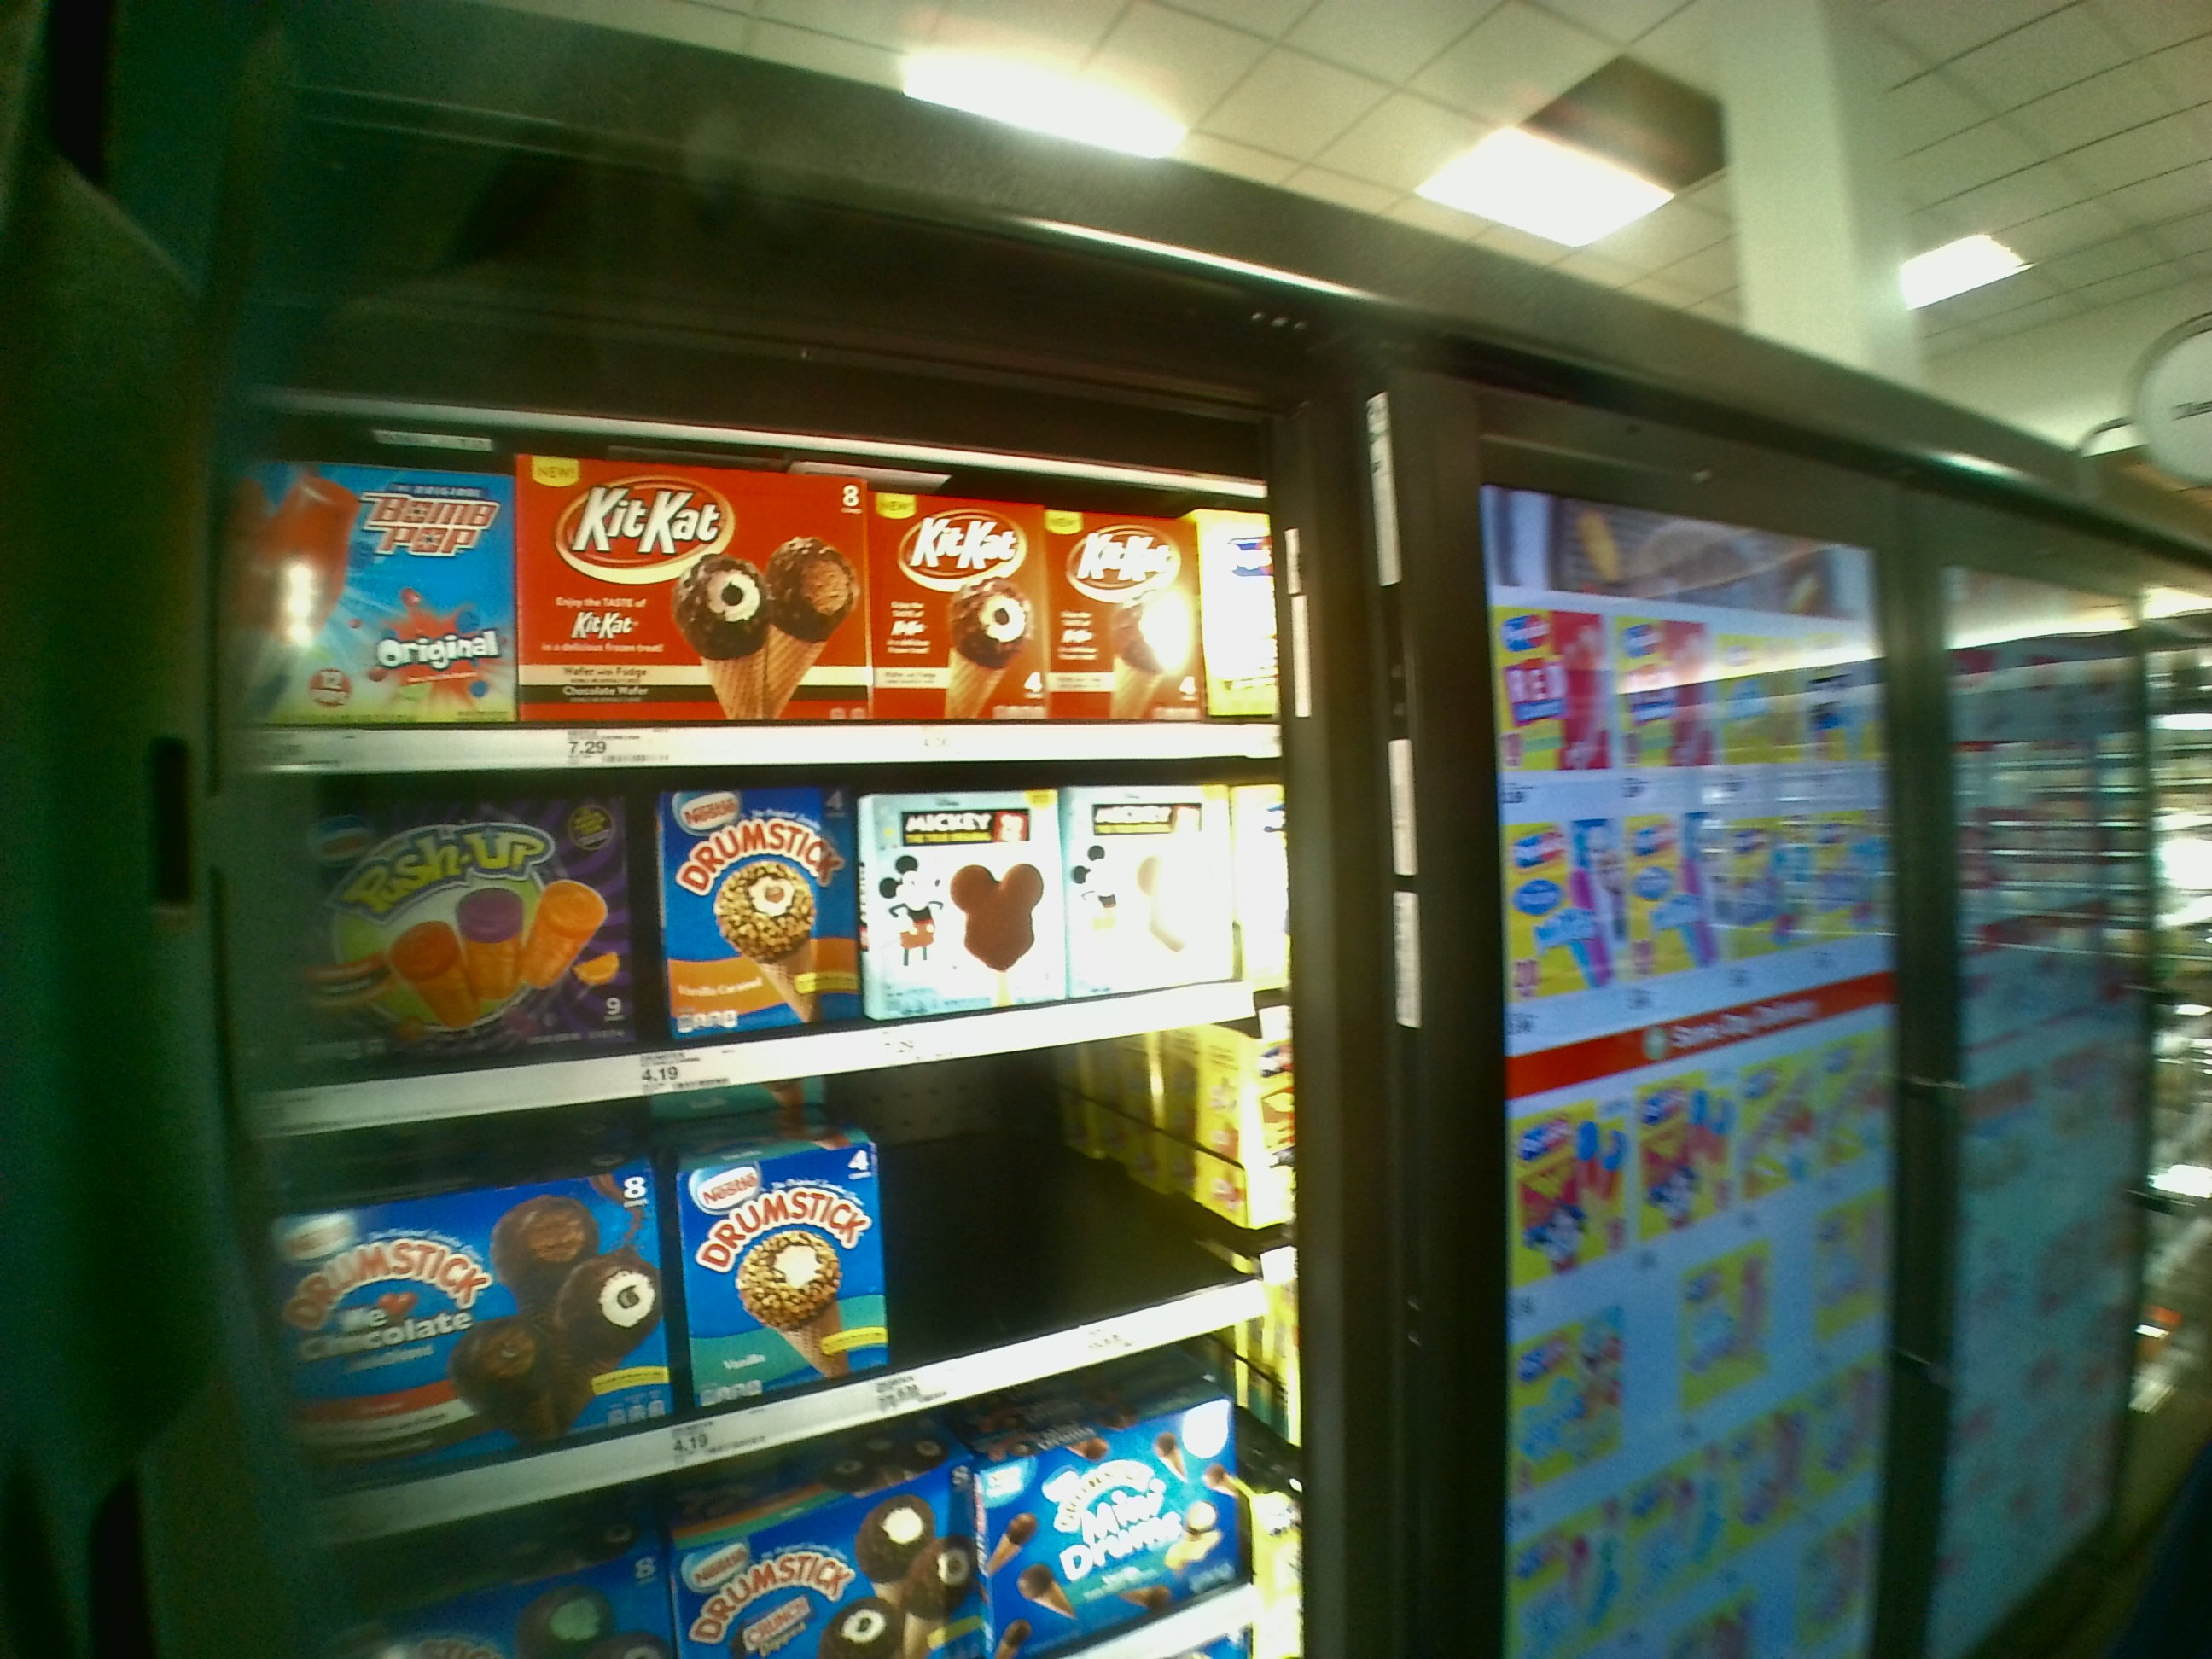shelf: (266, 1054, 1285, 1455), (232, 415, 1263, 765), (239, 770, 1273, 1056)
